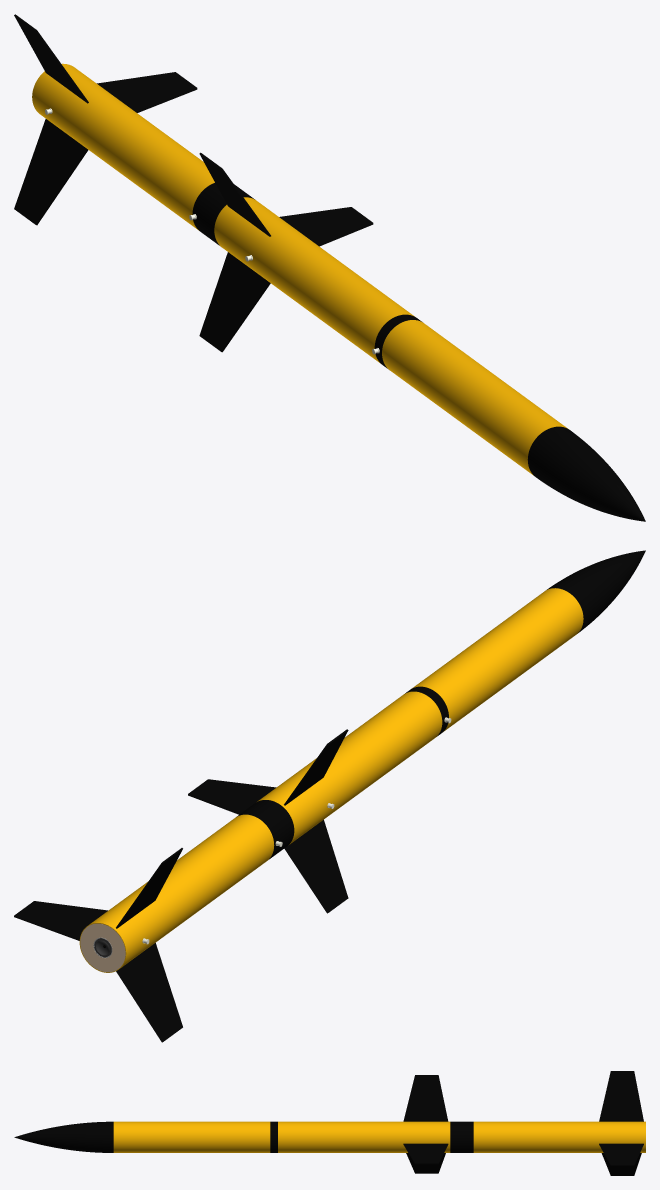
Rendered from rocket.glb.
3 views of the same model, one above another, from view 1: azimuth 30°, elevation 25°; view 2: azimuth 150°, elevation 25°; view 3: azimuth 270°, elevation 25° (orthographic). The views are drawn at different scales.
Parts seen in each view (by area): view 1: rocket; view 2: rocket; view 3: rocket.
Boxes of the visible parts, <box> form: rocket: <box>14,14,645,521</box>; rocket: <box>14,550,645,1042</box>; rocket: <box>14,1071,645,1175</box>.
Bounding box in the file's own units: 6.5 × 7.51 × 41.02.
Materials: 49 (36 with a texture image).
